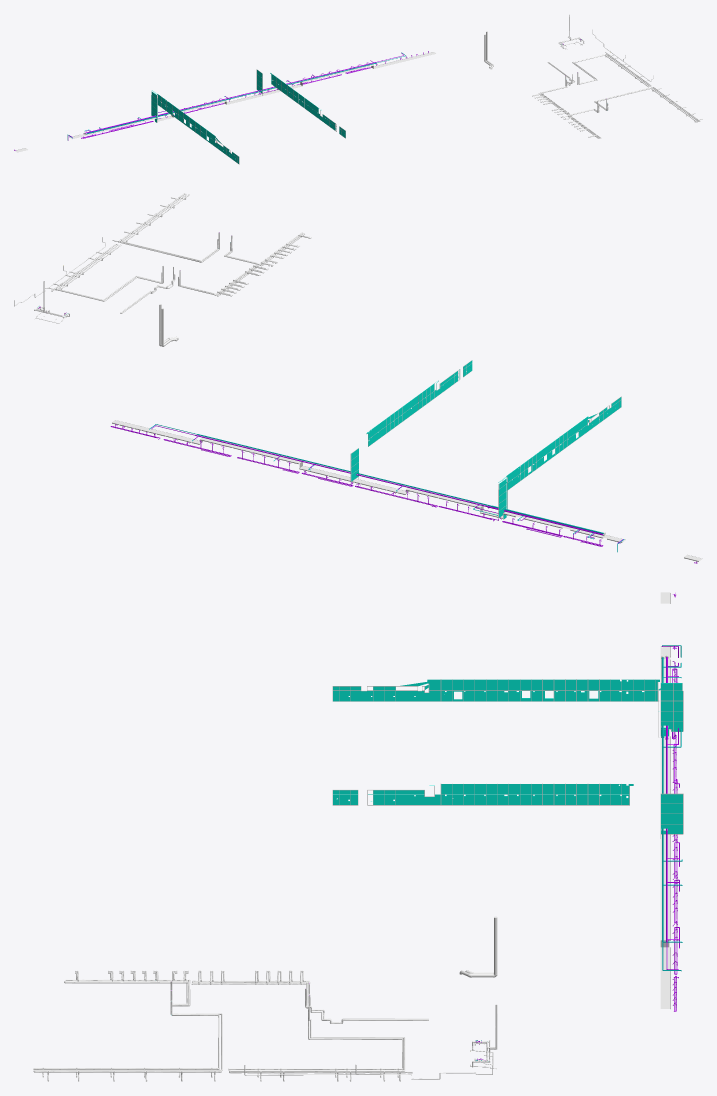
The model's file is detail-pipes-lite-3-2f.glb.
The picture shows the model from 3 angles, top to bottom: view 1: azimuth 30°, elevation 25°; view 2: azimuth 150°, elevation 25°; view 3: azimuth 270°, elevation 25°; orthographic projection. The views are drawn at different scales.
Bounding box in the file's own units: 131 × 12.19 × 69.
